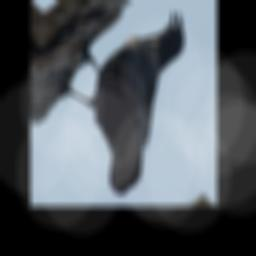Crow: (54, 2, 187, 198)
